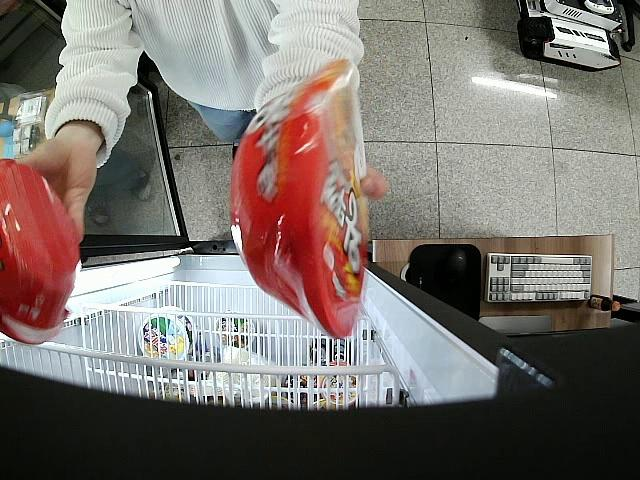00_hand: (14, 134, 97, 245)
10_wangTtukkeong: (233, 57, 365, 337), (0, 159, 79, 346)
